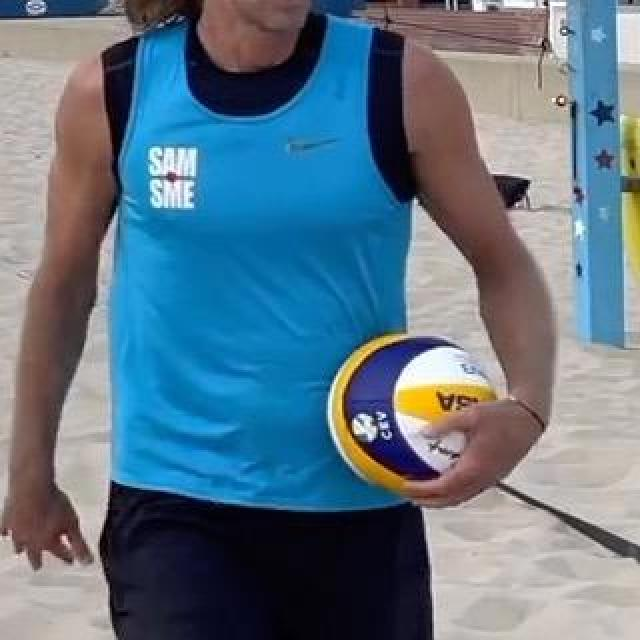volleyball: (324, 331, 502, 499)
